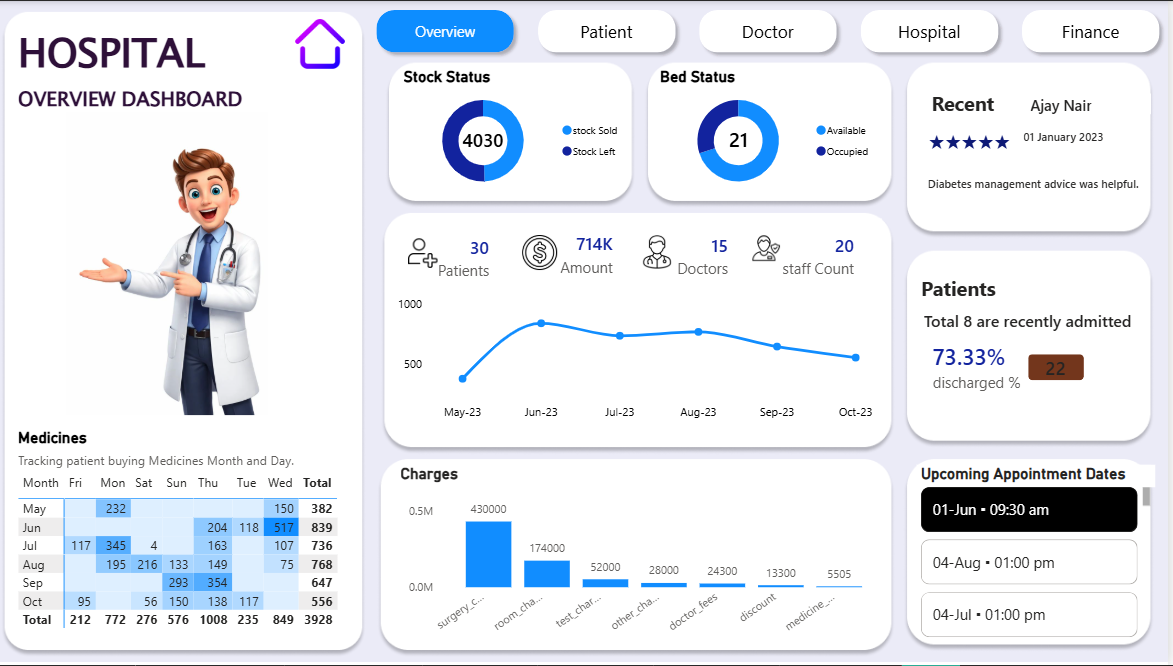

This screenshot's page, from the dashboard's own definition file:
{"tool":"powerbi","page":{"name":"Overview","canvas":[1280,720],"ordinal":1},"visuals":[{"type":"pivotTable","title":"Medicines","fields":{"Columns":["Calender.Dayname"],"Rows":["Calender.Monthname"],"Values":["Sum(medicine_patient.qty)"]},"box":[28.3,463,360.9,232.4],"z":0},{"type":"donutChart","title":"Stock Status","fields":{"Y":["all measure overview page.stock Sold","all measure overview page.Stock Available"]},"box":[446,71.8,251.3,139.8],"z":1000},{"type":"cardVisual","fields":{"Data":["all measure overview page.Stock Available"]},"box":[472.4,117.2,130.4,64.3],"z":2000},{"type":"donutChart","title":"Bed Status","fields":{"Y":["all measure overview page.Available bed","all measure overview page.occupied bed"]},"box":[723.8,71.8,245.7,139.8],"z":3000},{"type":"cardVisual","fields":{"Data":["all measure overview page.Available bed"]},"box":[767.2,113.4,92.6,68],"z":4000},{"type":"lineChart","fields":{"Category":["Calender.Month-year"],"Y":["Sum(medicine_patient.qty)"]},"box":[438.4,313.7,540.5,149.3],"z":5000},{"type":"columnChart","title":"Charges","fields":{"Category":["Hospital Bills.charges"],"Y":["Sum(Hospital Bills.Amount)"]},"box":[442.2,502.7,536.7,192.8],"z":6000},{"type":"cardVisual","fields":{"Data":["all measure overview page.Sum of satifaction_score.rating star rating"]},"box":[990.2,117.2,156.9,66.1],"z":7000},{"type":"cardVisual","fields":{"Data":["Min(patient.satifaction_score.feedback)"]},"box":[980.8,164.4,296.7,64.3],"z":8000},{"type":"cardVisual","fields":{"Data":["Min(patient.name)"]},"box":[1101.7,81.3,177.6,60.5],"z":9000},{"type":"cardVisual","fields":{"Data":["Min(patient.satifaction_score.date)"]},"box":[1077.2,120.9,162.5,51],"z":10000},{"type":"cardVisual","fields":{"Data":["all measure overview page.discharged count"]},"box":[1111.2,366.6,94.5,62.4],"z":11000},{"type":"cardVisual","fields":{"Data":["all measure overview page.discharged %"]},"box":[995.9,351.5,162.5,90.7],"z":12000},{"type":"cardVisual","fields":{"Data":["all measure overview page.status"]},"box":[986.5,313.7,285.4,64.3],"z":13000},{"type":"pageNavigator","box":[413.9,1.9,865.5,62.4],"z":14000},{"type":"textbox","box":[1007.3,291,103.9,41.6],"z":15000},{"type":"textbox","box":[1018.6,90.7,81.3,41.6],"z":16000},{"type":"cardVisual","fields":{"Data":["all measure overview page.Total Patient"]},"box":[442.2,238.1,130.4,81.3],"z":17000},{"type":"cardVisual","fields":{"Data":["all measure overview page.Total Amount"]},"box":[572.6,236.2,134.2,77.5],"z":18000},{"type":"cardVisual","fields":{"Data":["all measure overview page.Total Doctor"]},"box":[699.2,238.1,132.3,77.5],"z":19000},{"type":"cardVisual","fields":{"Data":["all measure overview page.staff Count"]},"box":[831.5,236.2,138,81.3],"z":20000},{"type":"textbox","box":[27.9,19.9,360.5,127.5],"z":21000},{"type":"image","box":[455.4,255.1,32.1,35.9],"z":22000},{"type":"image","box":[572.6,253.2,51,37.8],"z":23000},{"type":"image","box":[706.8,251.3,35.9,39.7],"z":24000},{"type":"image","box":[827.7,251.3,32.1,32.1],"z":25000},{"type":"image","box":[28.3,120.9,332.6,328.8],"z":26000},{"type":"advancedSlicerVisual","title":"Upcoming Appointment Dates","fields":{"Values":["Appointments.Date_Time"]},"box":[1007.3,502.7,258.9,192.8],"z":27000},{"type":"image","box":[308.7,19.9,101.6,53.8],"z":28000}]}

Visuals, with their boxes in screenshot pixels (x1, y1, x2, y2), scaled from the page's 1280x720 canvas onto the 1173x666 screenshot:
"Medicines" pivotTable: 26 428 357 643
"Stock Status" donutChart: 409 66 639 196
cardVisual - all measure overview page.Stock Available: 433 108 552 168
"Bed Status" donutChart: 663 66 888 196
cardVisual - all measure overview page.Available bed: 703 105 788 168
lineChart - Calender.Month-year x Sum(medicine_patient.qty): 402 290 897 428
"Charges" columnChart: 405 465 897 643
cardVisual - all measure overview page.Sum of satifaction_score.rating star rating: 907 108 1051 170
cardVisual - Min(patient.satifaction_score.feedback): 899 152 1171 212
cardVisual - Min(patient.name): 1010 75 1172 131
cardVisual - Min(patient.satifaction_score.date): 987 112 1136 159
cardVisual - all measure overview page.discharged count: 1018 339 1105 397
cardVisual - all measure overview page.discharged %: 913 325 1062 409
cardVisual - all measure overview page.status: 904 290 1166 350
pageNavigator: 379 2 1172 59
textbox: 923 269 1018 308
textbox: 933 84 1008 122
cardVisual - all measure overview page.Total Patient: 405 220 525 295
cardVisual - all measure overview page.Total Amount: 525 218 648 290
cardVisual - all measure overview page.Total Doctor: 641 220 762 292
cardVisual - all measure overview page.staff Count: 762 218 888 294
textbox: 26 18 356 136
image: 417 236 447 269
image: 525 234 571 269
image: 648 232 681 269
image: 759 232 788 262
image: 26 112 331 416
"Upcoming Appointment Dates" advancedSlicerVisual: 923 465 1160 643
image: 283 18 376 68
